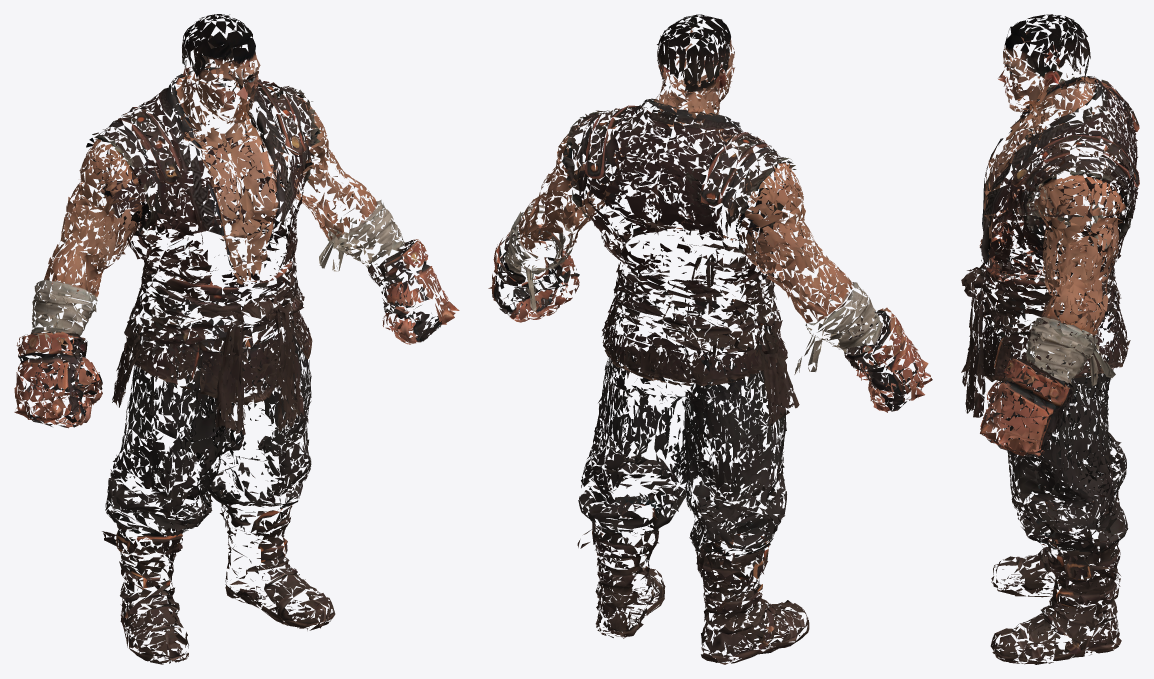
Rendered from boxer_hero.glb.
The picture shows the model from 3 angles, left to right: view 1: azimuth 30°, elevation 25°; view 2: azimuth 150°, elevation 25°; view 3: azimuth 270°, elevation 25°; orthographic projection.
Visible parts, largest first — view 1: tripo_node_49e162bf-5592-4315-a717-dd54bd11caaf; view 2: tripo_node_49e162bf-5592-4315-a717-dd54bd11caaf; view 3: tripo_node_49e162bf-5592-4315-a717-dd54bd11caaf.
Part boxes in pixels (box(x1,y1,x2,y2)): tripo_node_49e162bf-5592-4315-a717-dd54bd11caaf: box(14, 14, 459, 664); tripo_node_49e162bf-5592-4315-a717-dd54bd11caaf: box(488, 14, 932, 664); tripo_node_49e162bf-5592-4315-a717-dd54bd11caaf: box(961, 14, 1139, 664).
Size of the model in its own units: 1.42 by 1.9 by 0.5081.
Materials: 1 (1 with a texture image).
